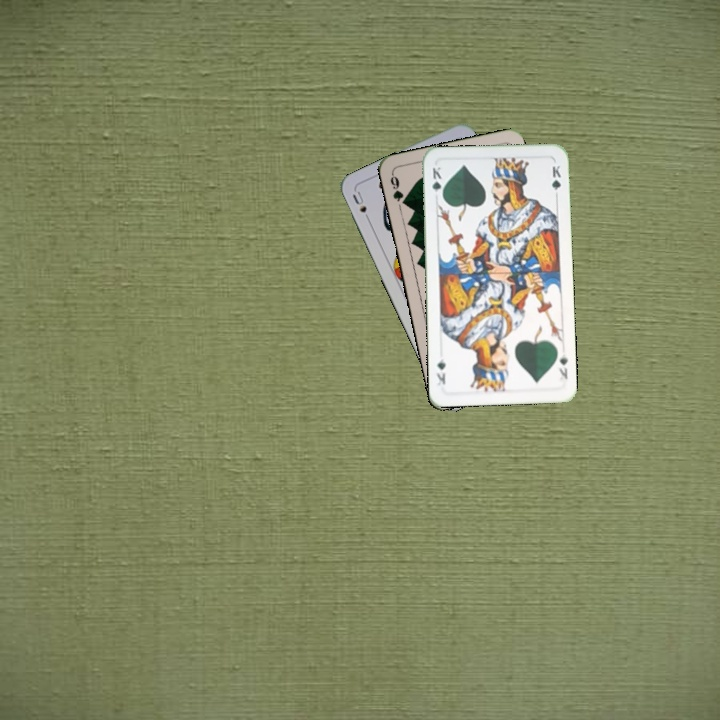G9: (386, 170, 410, 208)
GK: (428, 163, 445, 202), (553, 349, 570, 381)
SU: (348, 187, 373, 225)
